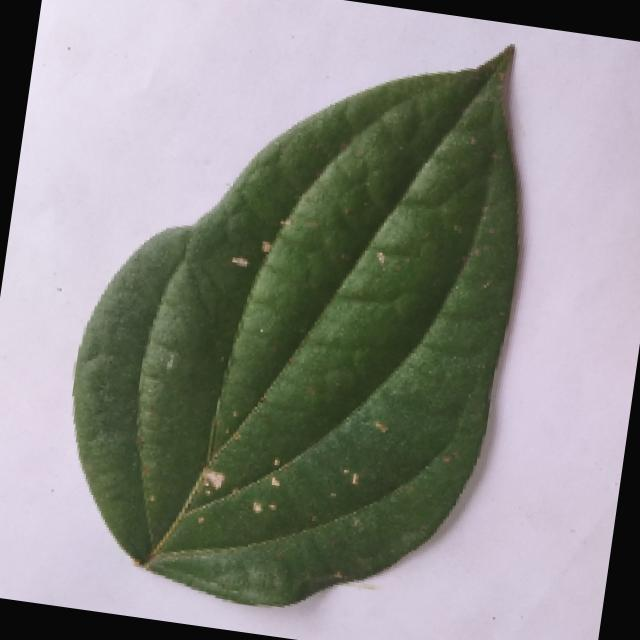pollu-disease: (46, 0, 549, 638)
